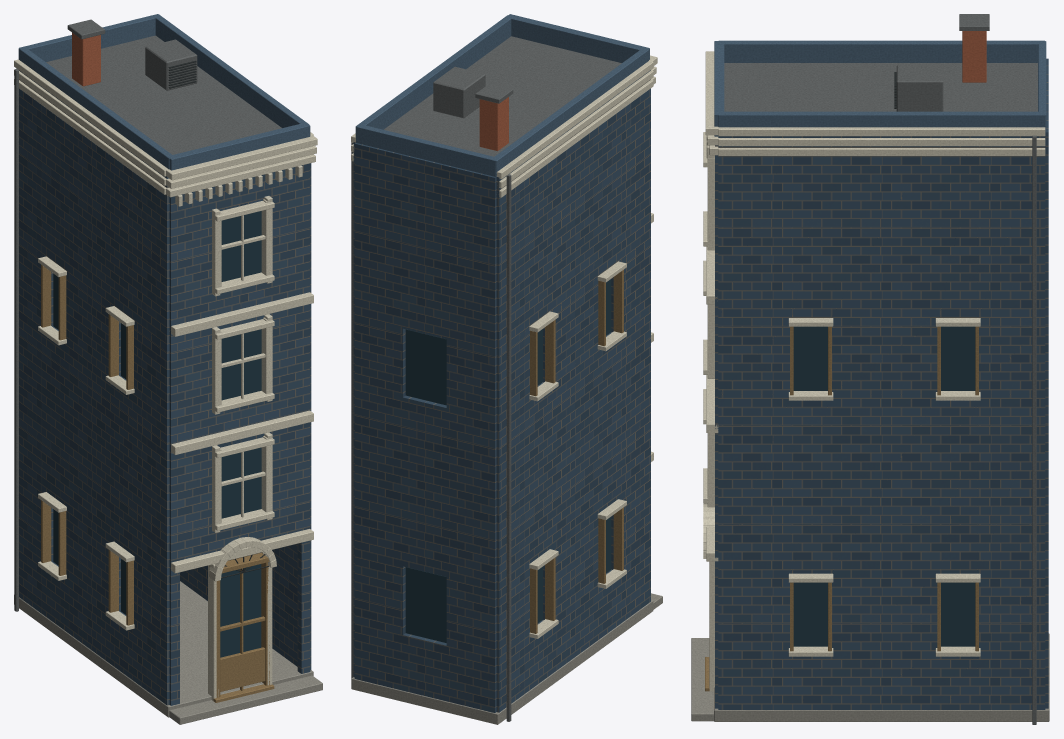
The model's file is OFFC5_lod1.glb.
3 views of the same model, side by side, from view 1: azimuth 30°, elevation 25°; view 2: azimuth 150°, elevation 25°; view 3: azimuth 270°, elevation 25° (orthographic). The views are drawn at different scales.
Parts seen in each view (by area): view 1: OFFC5_LOD1; view 2: OFFC5_LOD1; view 3: OFFC5_LOD1.
Boxes of the visible parts, <box> form: OFFC5_LOD1: <box>14,14,322,724</box>; OFFC5_LOD1: <box>351,14,662,724</box>; OFFC5_LOD1: <box>691,14,1049,724</box>.
Size of the model in its own units: 3.71 by 13.05 by 6.57.
10 materials, 8 textured.
